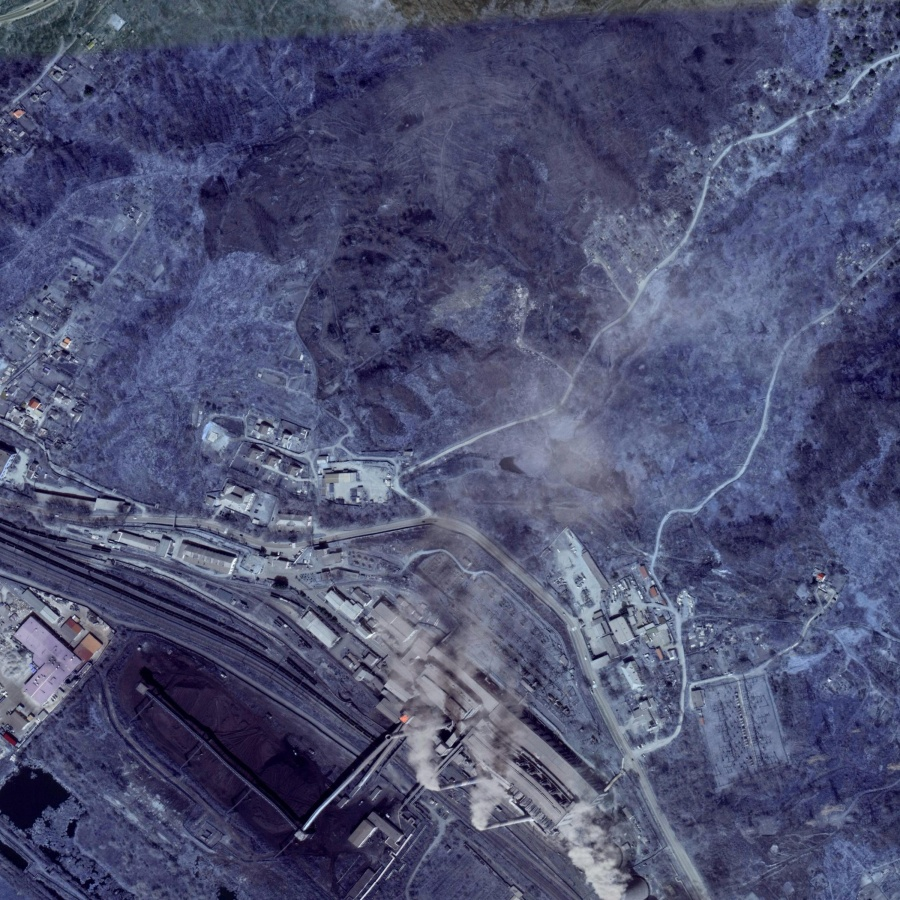PowerPlant: (112, 589, 553, 882)
